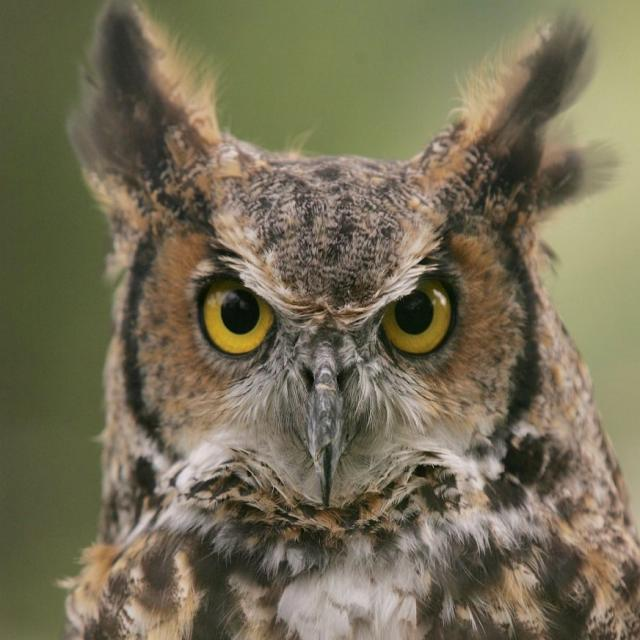owl: (61, 0, 640, 639)
